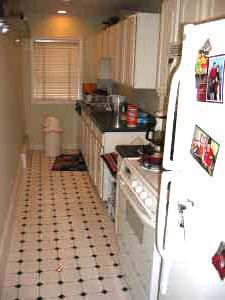Bote de Basura: (39, 115, 61, 160)
Electrodomestico: (158, 18, 223, 299), (116, 157, 157, 297)
